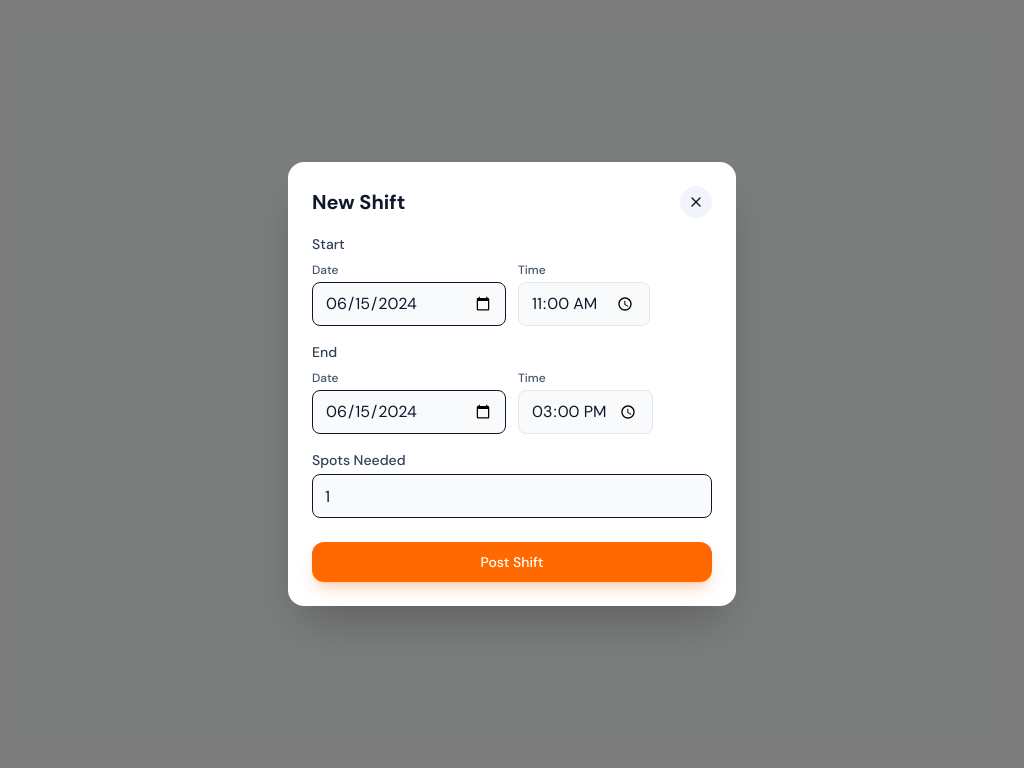
Scenario: CreateShiftModal › validation › shows error when duration exceeds 15 hours
Type "2024-06-16" into the date field with id "end-date".
click(409, 412); type("2024-06-16")  # box [325,391,493,433]
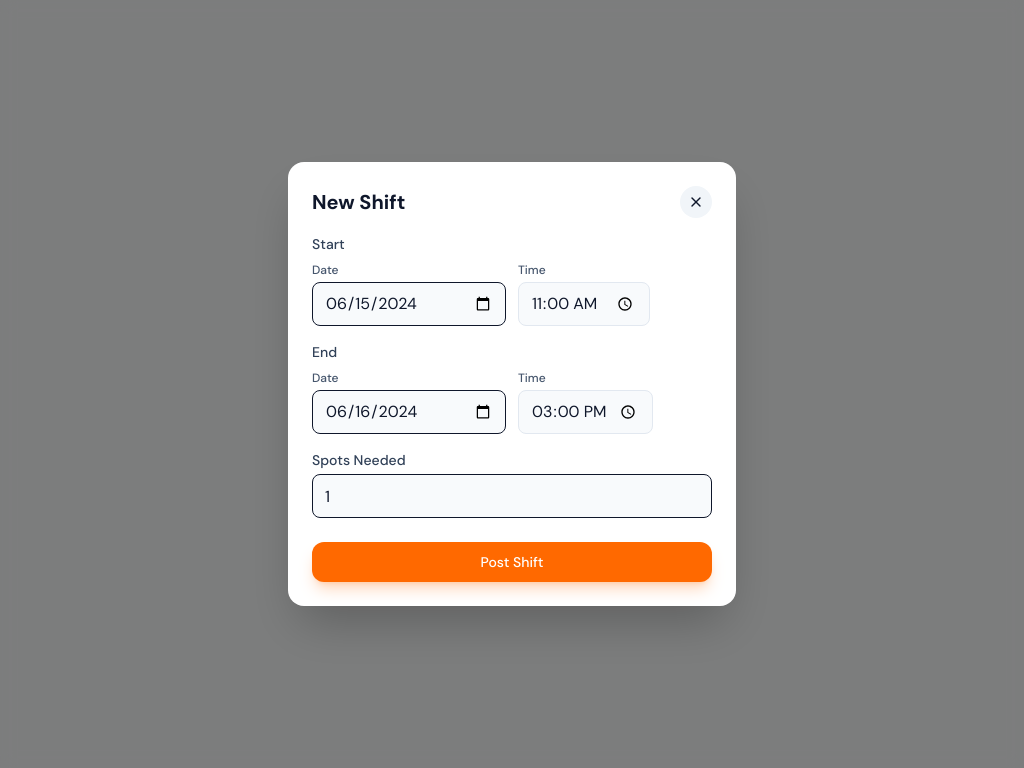
Replace the text in the time field with test id "end-time-input" with "04:00" at x=585, y=412, box [518,390,653,434]
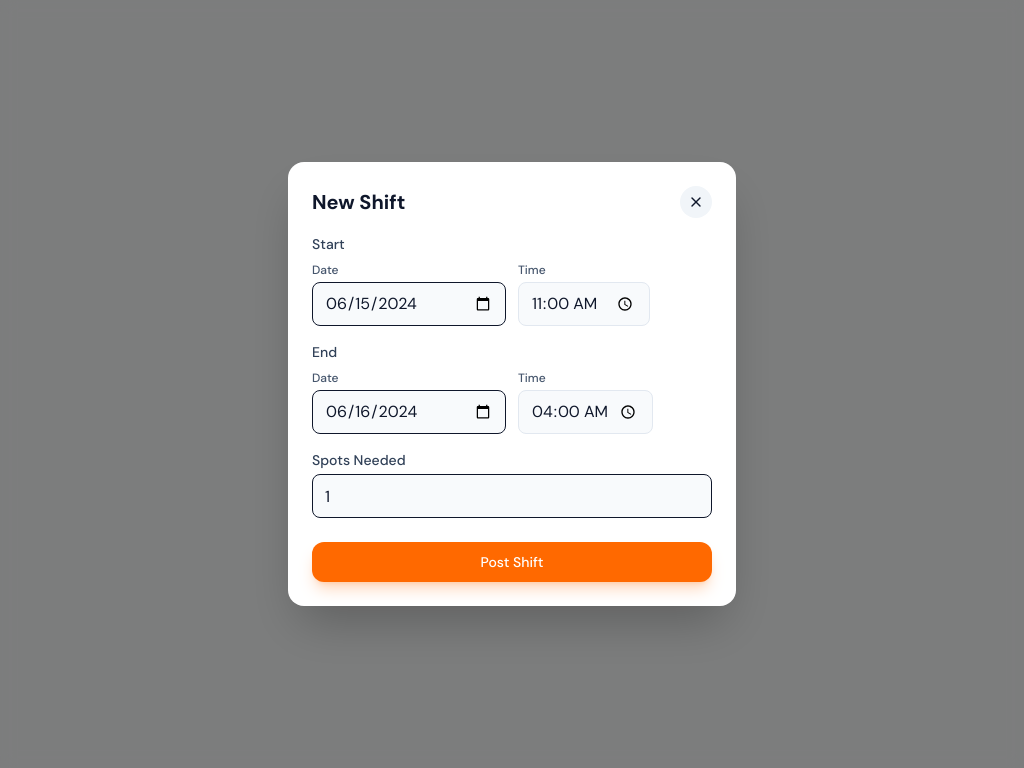
Click the button "Post Shift".
click(512, 562)  # box [312,542,712,582]
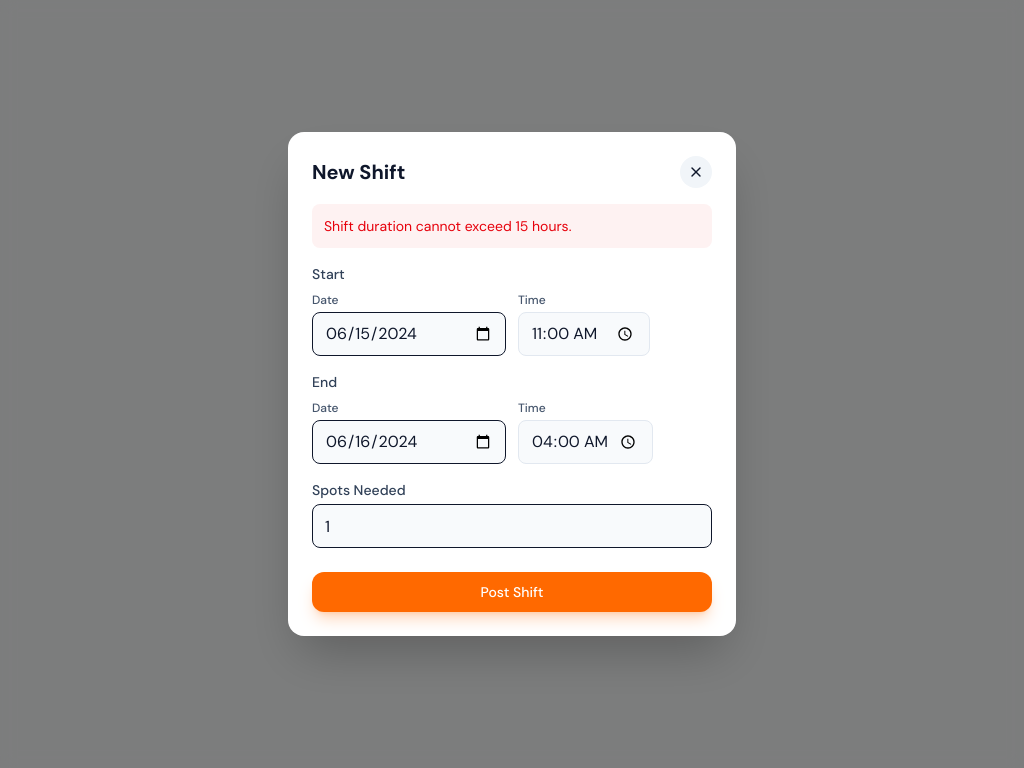
Result: the text "Shift duration cannot exceed 15 hours." is shown at [312,204,712,248]
